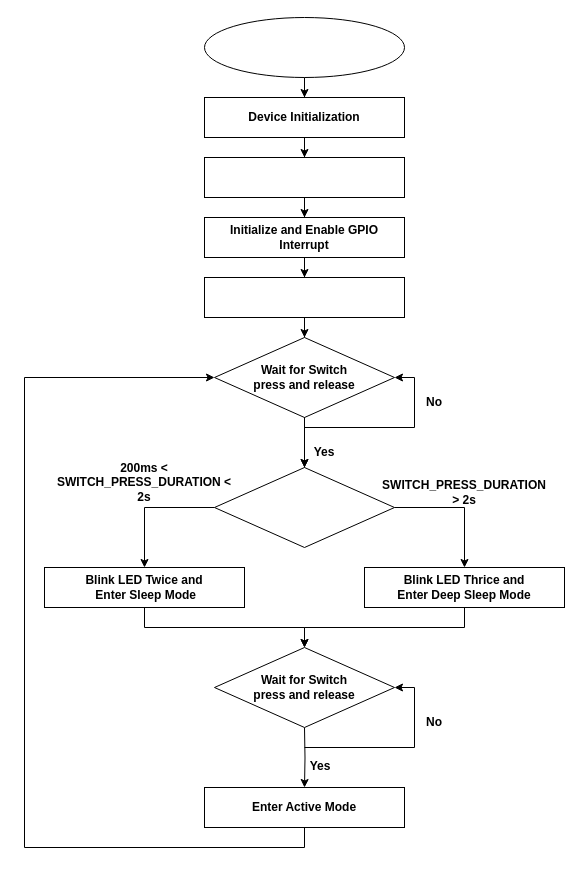
This 582x873 diagram has some shape labels left out. Each missing label, with the centre of its shape:
"Configure UART peripheral and print Initialization messages" belongs at [304,177].
"Register Sleep and Deep Sleep callbacks" belongs at [304,297].
"Start" belongs at [304,47].
"Switch press duration" belongs at [304,507].
